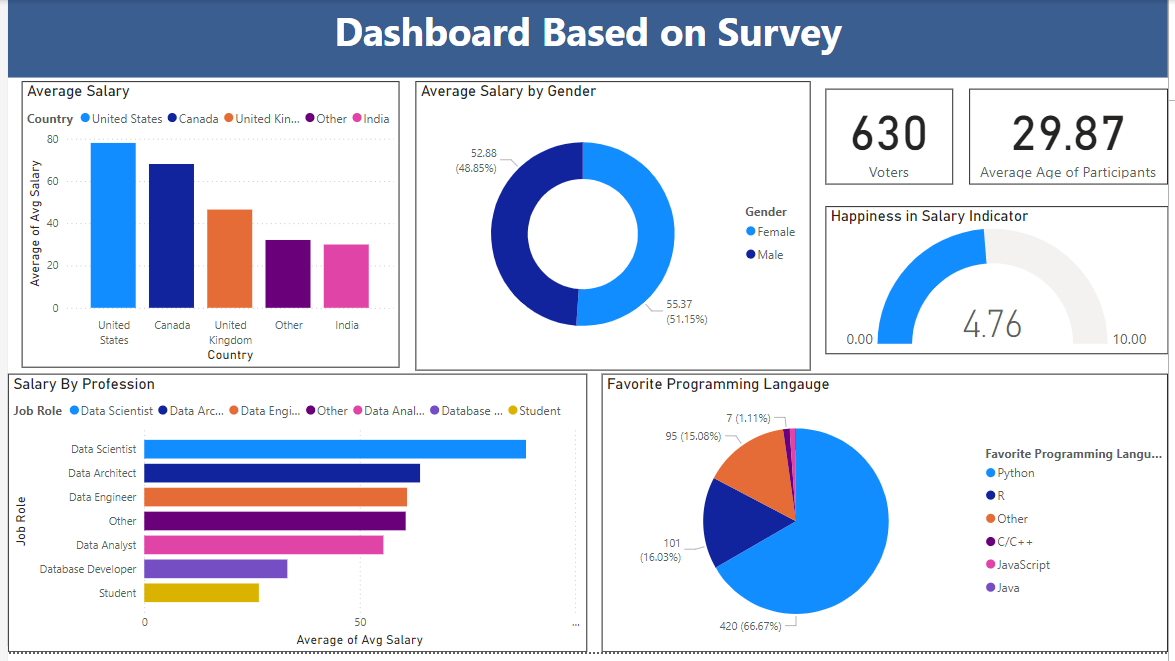

The dashboard page shown, as its layout file describes it:
{"tool":"powerbi","page":{"name":"Page 1","canvas":[1280,720],"ordinal":0},"visuals":[{"type":"textbox","box":[0,0,1280,85.8],"z":0},{"type":"card","fields":{"Values":["Avg(Data Professional Survey.Age)"]},"box":[1061.1,98.3,218.9,105.7],"z":1000},{"type":"card","fields":{"Values":["Count(Data Professional Survey.Unique ID)"]},"box":[901.9,98.3,140.6,105.7],"z":2000},{"type":"columnChart","title":"Average Salary","fields":{"Category":["Data Professional Survey.Country"],"Y":["Avg(Data Professional Survey.Avg Salary)"],"Series":["Data Professional Survey.Country"]},"box":[14.8,89,416.9,316],"z":3000},{"type":"barChart","title":"Salary By Profession","fields":{"Category":["Data Professional Survey.Job Role"],"Y":["Avg(Data Professional Survey.Avg Salary)"],"Series":["Data Professional Survey.Job Role"]},"box":[0,412.4,639.4,307.1],"z":4000},{"type":"pieChart","title":"Favorite Programming Langauge","fields":{"Category":["Data Professional Survey.Favorite Programming Language"],"Y":["CountNonNull(Data Professional Survey.Unique ID)"]},"box":[655.7,412.4,624.6,307.1],"z":5000},{"type":"gauge","title":"Happiness in Salary Indicator","fields":{"MinValue":["Min(Data Professional Survey.Happiness in Salary)"],"Y":["Avg(Data Professional Survey.Happiness in Salary)"],"MaxValue":["Max(Data Professional Survey.Happiness in Salary)"]},"box":[902,227,378.3,163.2],"z":6000},{"type":"donutChart","title":"Average Salary by Gender","fields":{"Category":["Data Professional Survey.Gender"],"Y":["Avg(Data Professional Survey.Avg Salary)"]},"box":[449.5,89,436.2,319],"z":7000}]}

Visuals, with their boxes in screenshot pixels (x1, y1, x2, y2), scaled from the page's 1280x720 canvas onto the 1175x661 screenshot:
textbox: region(0, 0, 1174, 79)
card - Avg(Data Professional Survey.Age): region(974, 90, 1174, 187)
card - Count(Data Professional Survey.Unique ID): region(828, 90, 957, 187)
"Average Salary" columnChart: region(14, 82, 396, 372)
"Salary By Profession" barChart: region(0, 379, 587, 660)
"Favorite Programming Langauge" pieChart: region(602, 379, 1174, 660)
"Happiness in Salary Indicator" gauge: region(828, 208, 1174, 358)
"Average Salary by Gender" donutChart: region(413, 82, 813, 375)
